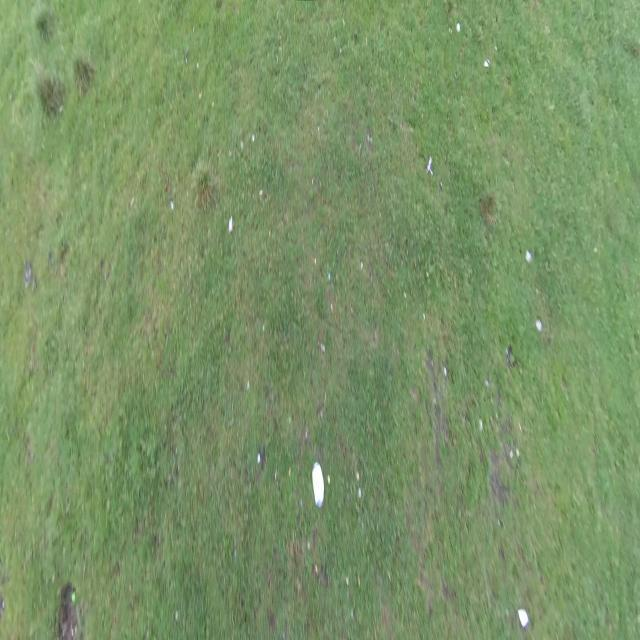rubbish: (312, 461, 325, 508)
